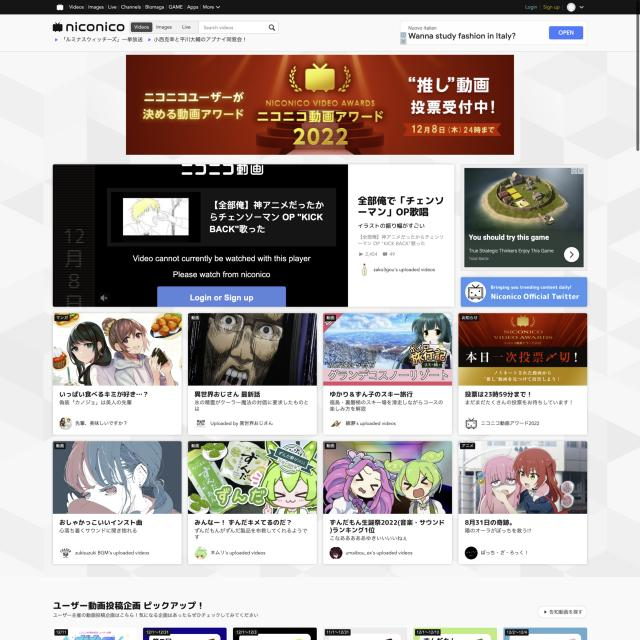CheckBox: (130, 22, 153, 32)
CheckedTextView: (199, 21, 279, 34)
ImageView: (126, 54, 515, 155), (462, 164, 588, 271), (401, 20, 587, 45)
alert: (202, 3, 224, 11), (566, 3, 584, 12)
carousel: (267, 23, 277, 32), (55, 3, 64, 12), (54, 37, 58, 43), (147, 37, 151, 42)
copy: (188, 312, 318, 386), (322, 312, 452, 386), (458, 312, 587, 386), (188, 441, 317, 515), (52, 441, 182, 514), (458, 441, 588, 514), (323, 441, 452, 514), (53, 313, 181, 386)
data feed: (153, 36, 247, 44), (62, 36, 144, 43), (132, 23, 151, 31)
date picker: (51, 20, 126, 34)
decoration: (51, 0, 587, 15)
footer: (202, 24, 235, 31)
icon: (129, 21, 199, 34)
